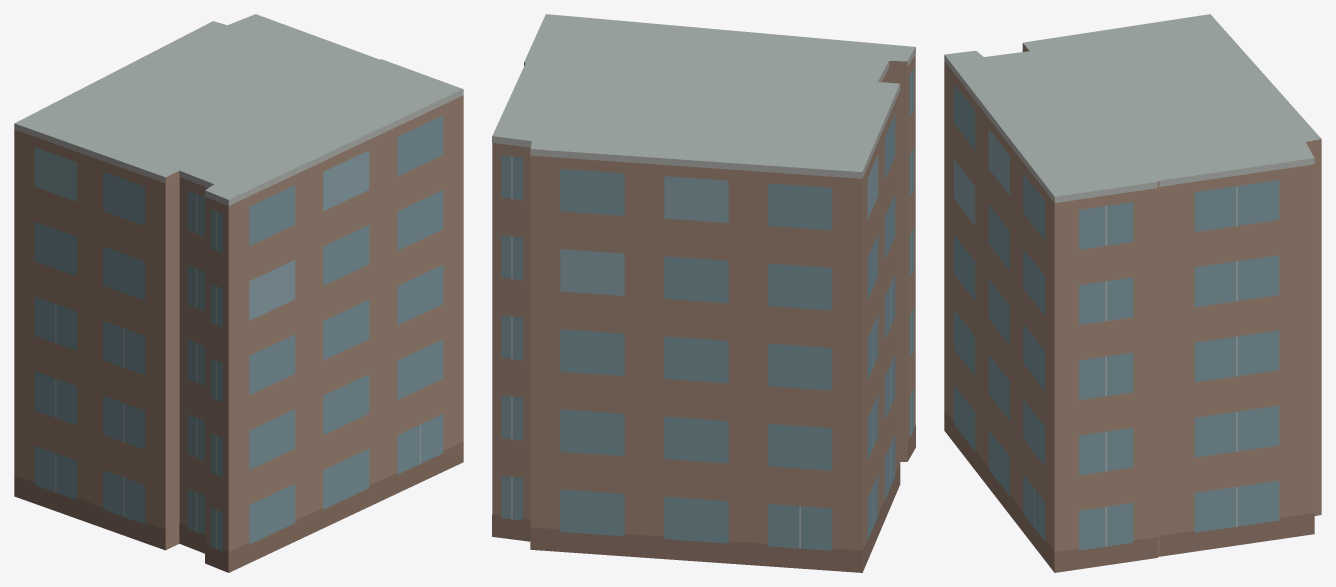
The model's file is survey-upis-33046549.glb.
3 renders of one model, left to right at view 1: azimuth 30°, elevation 25°; view 2: azimuth 150°, elevation 25°; view 3: azimuth 270°, elevation 25°, orthographic. The views are drawn at different scales.
Parts seen in each view (by area): view 1: survey-upis-33046549.tmp; view 2: survey-upis-33046549.tmp; view 3: survey-upis-33046549.tmp.
Part boxes in pixels (x1,y1,x2,y2): survey-upis-33046549.tmp: [14, 14, 463, 572]; survey-upis-33046549.tmp: [492, 14, 915, 572]; survey-upis-33046549.tmp: [944, 14, 1321, 572].
Bounding box in the file's own units: 15.46 × 14.8 × 13.47.
